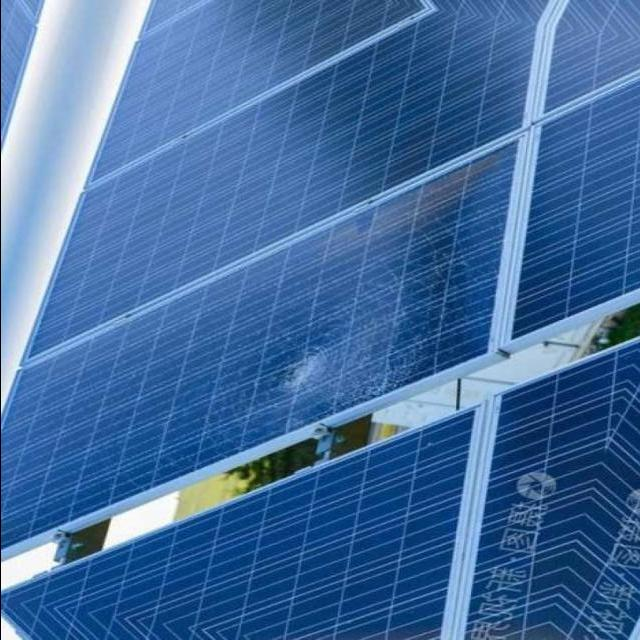cracked: (3, 213, 509, 508)
